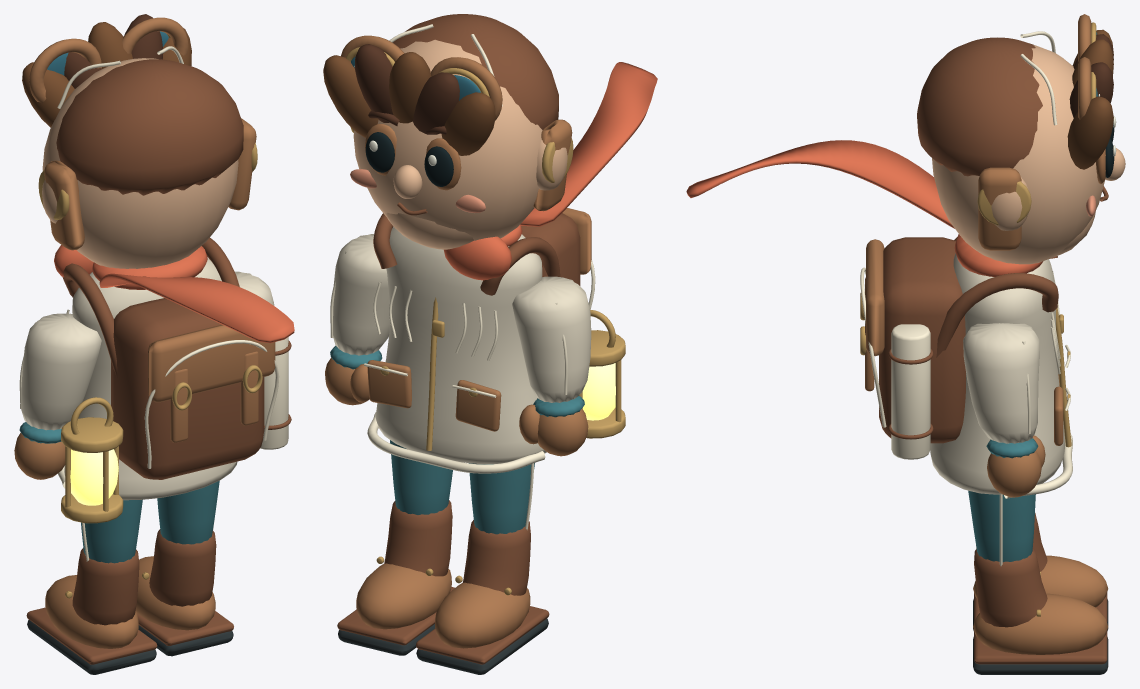
The model's file is traveler-v2.glb.
The picture shows the model from 3 angles, left to right: view 1: azimuth 30°, elevation 25°; view 2: azimuth 150°, elevation 25°; view 3: azimuth 270°, elevation 25°; orthographic projection. The views are drawn at different scales.
Parts seen in each view (by area): view 1: Head_Chestnut leather, Body_Chestnut leather, Head_Warm peach skin, Body_Cognac leather panels, Sleeve.001, Head_Cognac leather panels, RightLeg_Chestnut leather, Flight coat, Scarf, LeftLeg_Chestnut leather, Lantern_Brushed aged brass, Body_Warm linen stitching (+16 smaller); view 2: Flight coat, Head_Warm peach skin, Sleeve.001, Head_Chestnut leather, Head_Sunlit hair strands, Scarf, RightLeg_Chestnut leather, Sleeve, LeftLeg_Chestnut leather, Rounded boot toe.001, Rounded boot toe, Head_Chestnut hair (+18 smaller); view 3: Head_Warm peach skin, Body_Chestnut leather, Head_Chestnut leather, Flight coat, Sleeve, Body_Warm linen stitching, Scarf, LeftLeg_Chestnut leather, Rounded boot toe, Trouser, Head_Cognac leather panels, Head_Sunlit hair strands (+10 smaller).
Part boxes in pixels (x1,y1,x2,y2): Head_Chestnut leather: (56, 59, 243, 195); Body_Chestnut leather: (62, 238, 291, 479); Head_Warm peach skin: (42, 58, 238, 268); Body_Cognac leather panels: (148, 324, 275, 442); Sleeve.001: (21, 313, 101, 430); Head_Cognac leather panels: (29, 17, 256, 250); RightLeg_Chestnut leather: (26, 548, 157, 664); Flight coat: (64, 258, 237, 500); Scarf: (99, 273, 294, 343); LeftLeg_Chestnut leather: (137, 529, 233, 645); Lantern_Brushed aged brass: (61, 397, 123, 523); Body_Warm linen stitching: (57, 309, 288, 488); Flight coat: (375, 227, 546, 463); Head_Warm peach skin: (353, 39, 567, 249); Sleeve.001: (512, 276, 591, 402); Head_Chestnut leather: (393, 14, 558, 215); Head_Sunlit hair strands: (323, 52, 495, 155); Scarf: (520, 62, 657, 226); RightLeg_Chestnut leather: (416, 520, 549, 664); Sleeve: (333, 234, 389, 355); LeftLeg_Chestnut leather: (337, 500, 454, 645); Rounded boot toe.001: (435, 582, 530, 648); Rounded boot toe: (356, 563, 451, 629); Head_Chestnut hair: (354, 44, 459, 134); Head_Warm peach skin: (932, 45, 1125, 264); Body_Chestnut leather: (879, 237, 1058, 443); Head_Chestnut leather: (917, 37, 1108, 201); Flight coat: (930, 253, 1064, 494); Sleeve: (963, 323, 1039, 443); Body_Warm linen stitching: (860, 267, 1072, 498); Scarf: (686, 140, 954, 228); LeftLeg_Chestnut leather: (974, 548, 1107, 664); Rounded boot toe: (973, 593, 1108, 654); Trouser: (968, 490, 1035, 562); Head_Cognac leather panels: (978, 14, 1105, 250); Head_Sunlit hair strands: (1067, 29, 1113, 169).
Size of the model in its own units: 0.7844 by 1.77 by 1.17.
